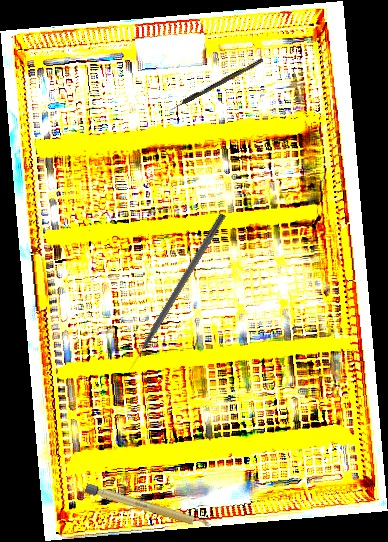Hook Surgical: (125, 212, 227, 373), (168, 57, 265, 112)
Scalpel Handle: (84, 483, 212, 531)
